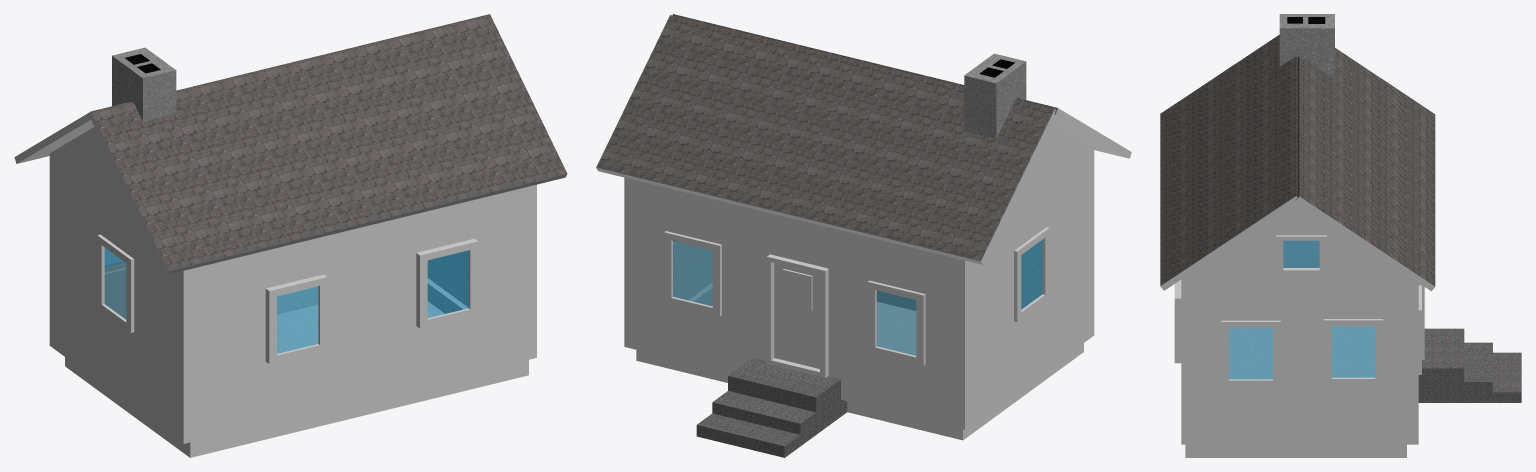
Rendered from talo_punainen.obj.
3 renders of one model, left to right at view 1: azimuth 30°, elevation 25°; view 2: azimuth 150°, elevation 25°; view 3: azimuth 270°, elevation 25°, orthographic. The views are drawn at different scales.
Parts seen in each view (by area): view 1: talo_punainen-SKP-Default_Material, talo_punainen-SKP-GAF_Country_Mansion, talo_punainen-SKP-Glass_Blue_Tint, talo_punainen-SKP-Terrazzo; view 2: talo_punainen-SKP-Default_Material, talo_punainen-SKP-GAF_Country_Mansion, talo_punainen-SKP-Stone_Granite_Midnite, talo_punainen-SKP-Glass_Blue_Tint, talo_punainen-SKP-Terrazzo; view 3: talo_punainen-SKP-Default_Material, talo_punainen-SKP-GAF_Country_Mansion, talo_punainen-SKP-Stone_Granite_Midnite, talo_punainen-SKP-Glass_Blue_Tint, talo_punainen-SKP-Terrazzo.
Boxes of the visible parts, left/top/right/bottom form: talo_punainen-SKP-Default_Material: left=14, top=111, right=567, bottom=457; talo_punainen-SKP-GAF_Country_Mansion: left=91, top=14, right=567, bottom=270; talo_punainen-SKP-Glass_Blue_Tint: left=104, top=247, right=468, bottom=353; talo_punainen-SKP-Terrazzo: left=112, top=47, right=176, bottom=121; talo_punainen-SKP-Default_Material: left=596, top=108, right=1131, bottom=440; talo_punainen-SKP-GAF_Country_Mansion: left=596, top=14, right=1057, bottom=261; talo_punainen-SKP-Stone_Granite_Midnite: left=696, top=358, right=847, bottom=457; talo_punainen-SKP-Glass_Blue_Tint: left=673, top=240, right=1042, bottom=355; talo_punainen-SKP-Terrazzo: left=964, top=53, right=1026, bottom=138; talo_punainen-SKP-Default_Material: left=1160, top=196, right=1434, bottom=457; talo_punainen-SKP-GAF_Country_Mansion: left=1160, top=34, right=1435, bottom=286; talo_punainen-SKP-Stone_Granite_Midnite: left=1418, top=328, right=1521, bottom=402; talo_punainen-SKP-Glass_Blue_Tint: left=1229, top=240, right=1375, bottom=379; talo_punainen-SKP-Terrazzo: left=1279, top=14, right=1334, bottom=79.
Bounding box in the file's own units: 7.88 × 6.38 × 6.96.
